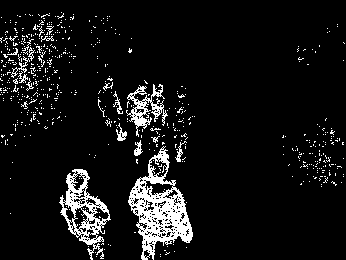person: (54, 157, 111, 258), (141, 160, 193, 260), (173, 82, 197, 165), (98, 75, 124, 145), (131, 76, 150, 158), (156, 79, 168, 148)
